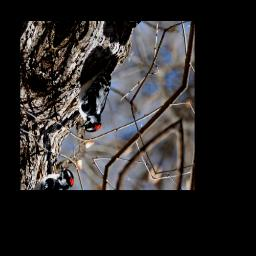Woodpecker: (63, 46, 133, 140)
